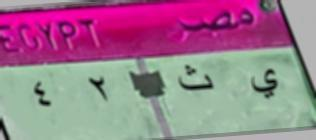2: (85, 70, 112, 112)
4: (30, 78, 54, 115)
thaa: (176, 62, 217, 98)
yaa: (245, 64, 281, 105)
